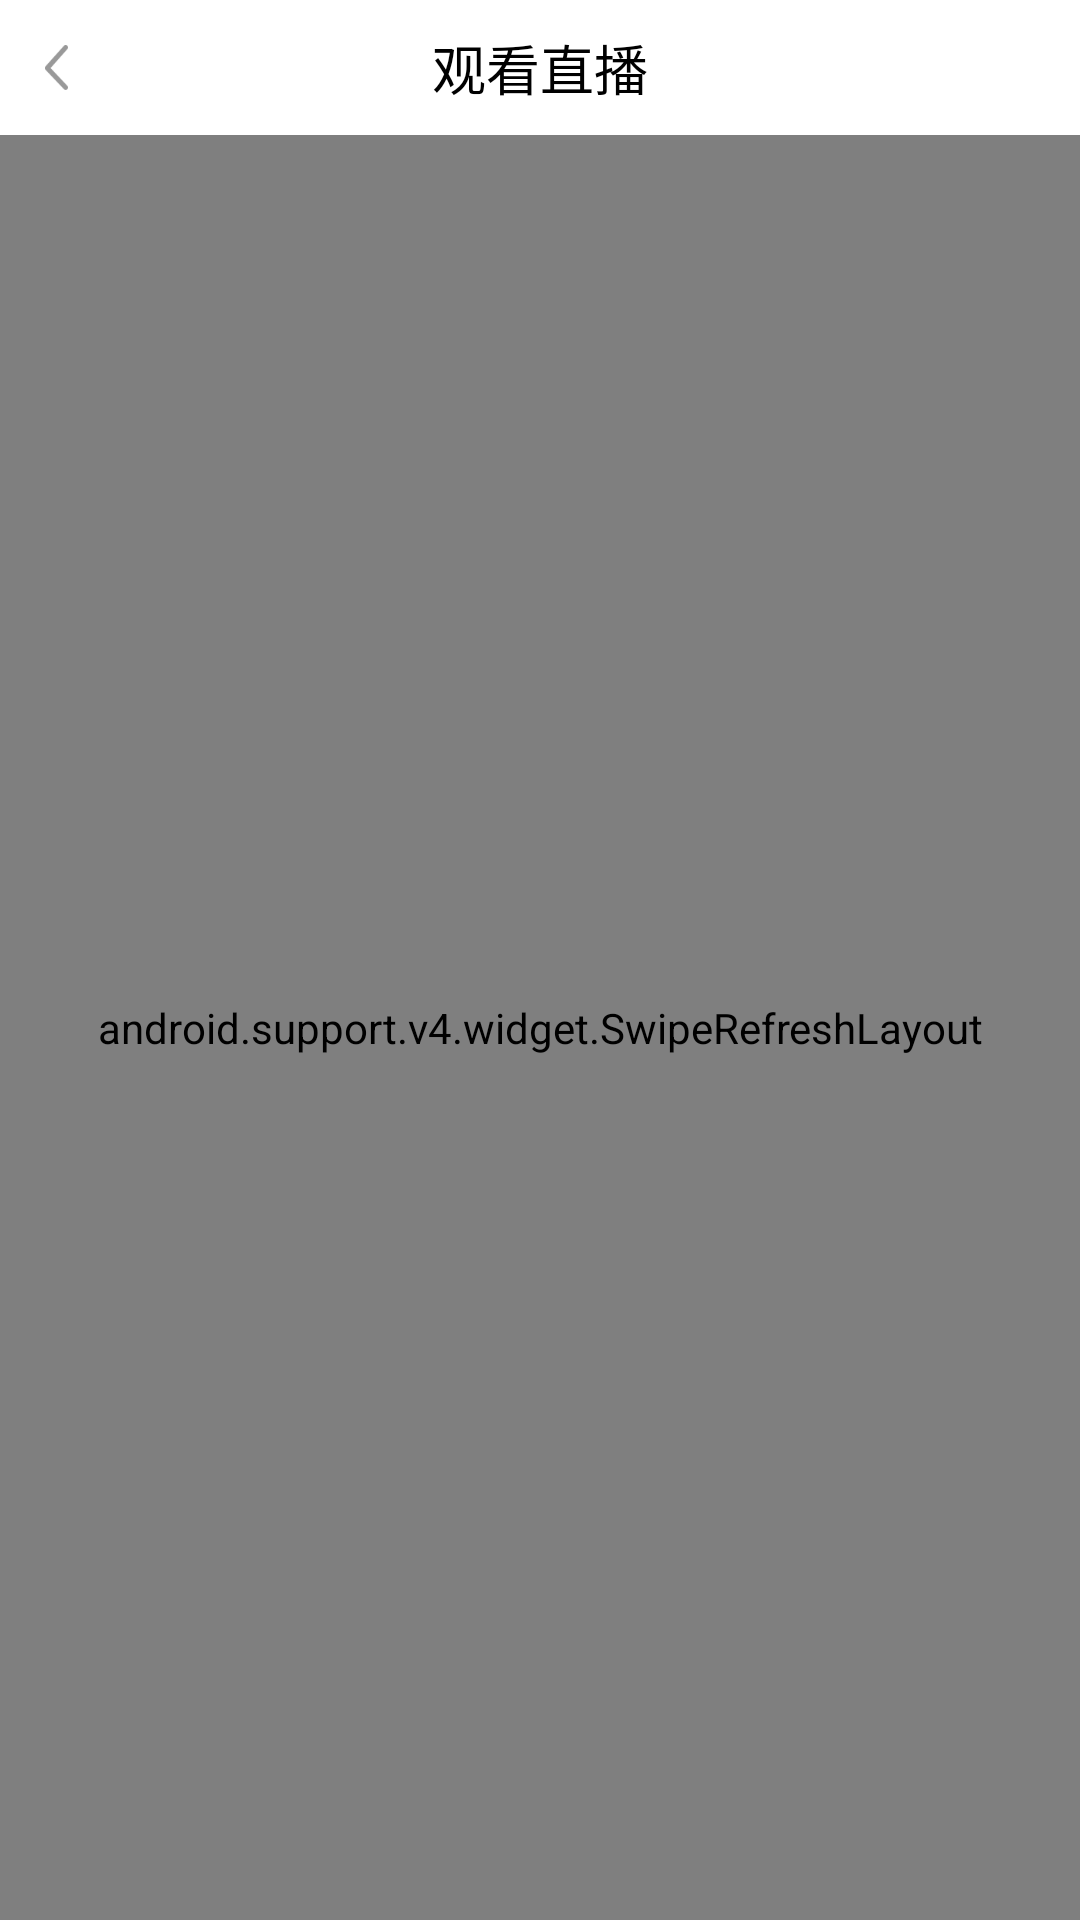

Named icons in this screenshot (1080w x 1920h) and their centers, (x,y):
back: (56,67)
